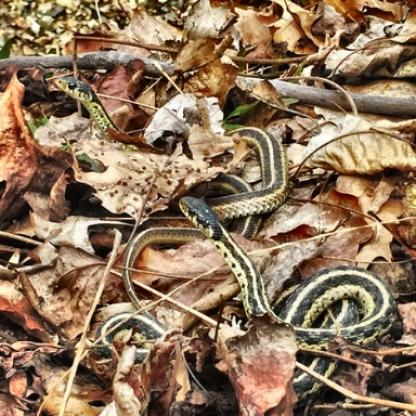Snake: (182, 194, 400, 349), (57, 76, 135, 148)
